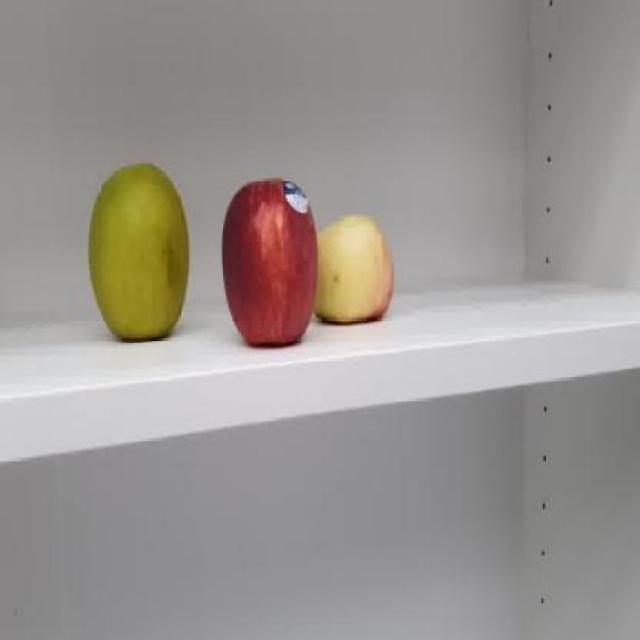Fresh Apple: (86, 168, 188, 340), (222, 179, 308, 347), (318, 198, 393, 325)
